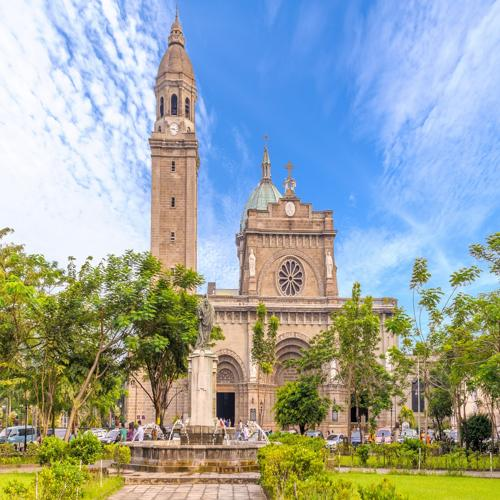Manila Cathedral Church: (86, 5, 438, 446)
